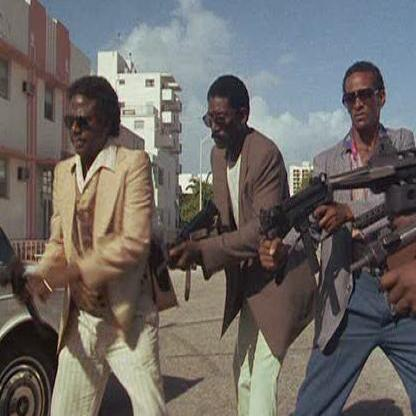Gun: (253, 144, 415, 288), (153, 200, 226, 287), (0, 228, 49, 343)
